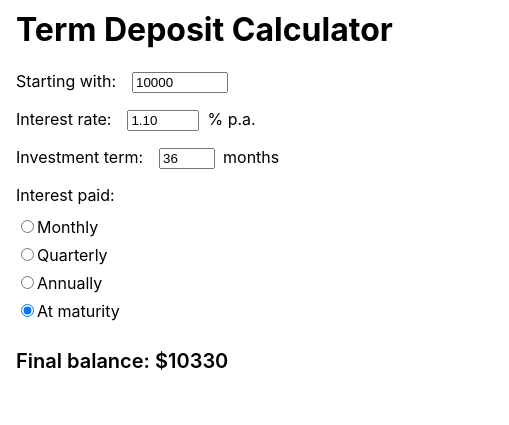
Test: displays error message when interest rate is invalid
Replace the text in the number field labelled "Interest rate: % p.a." with "15.1". click: (164,120)
box: [128,110,200,131]
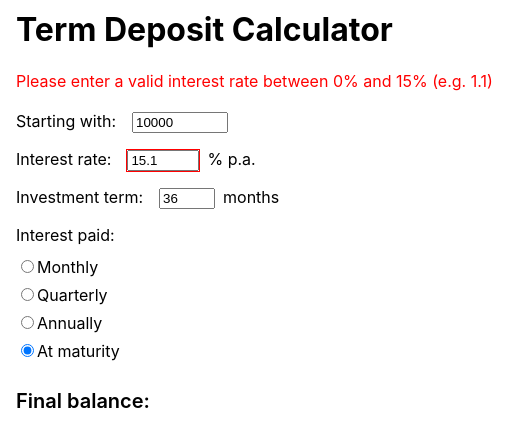
Check: the text "Please enter a valid interest rate between 0% and 15% (e.g. 1.1)" is shown, box [16,71,493,91]
